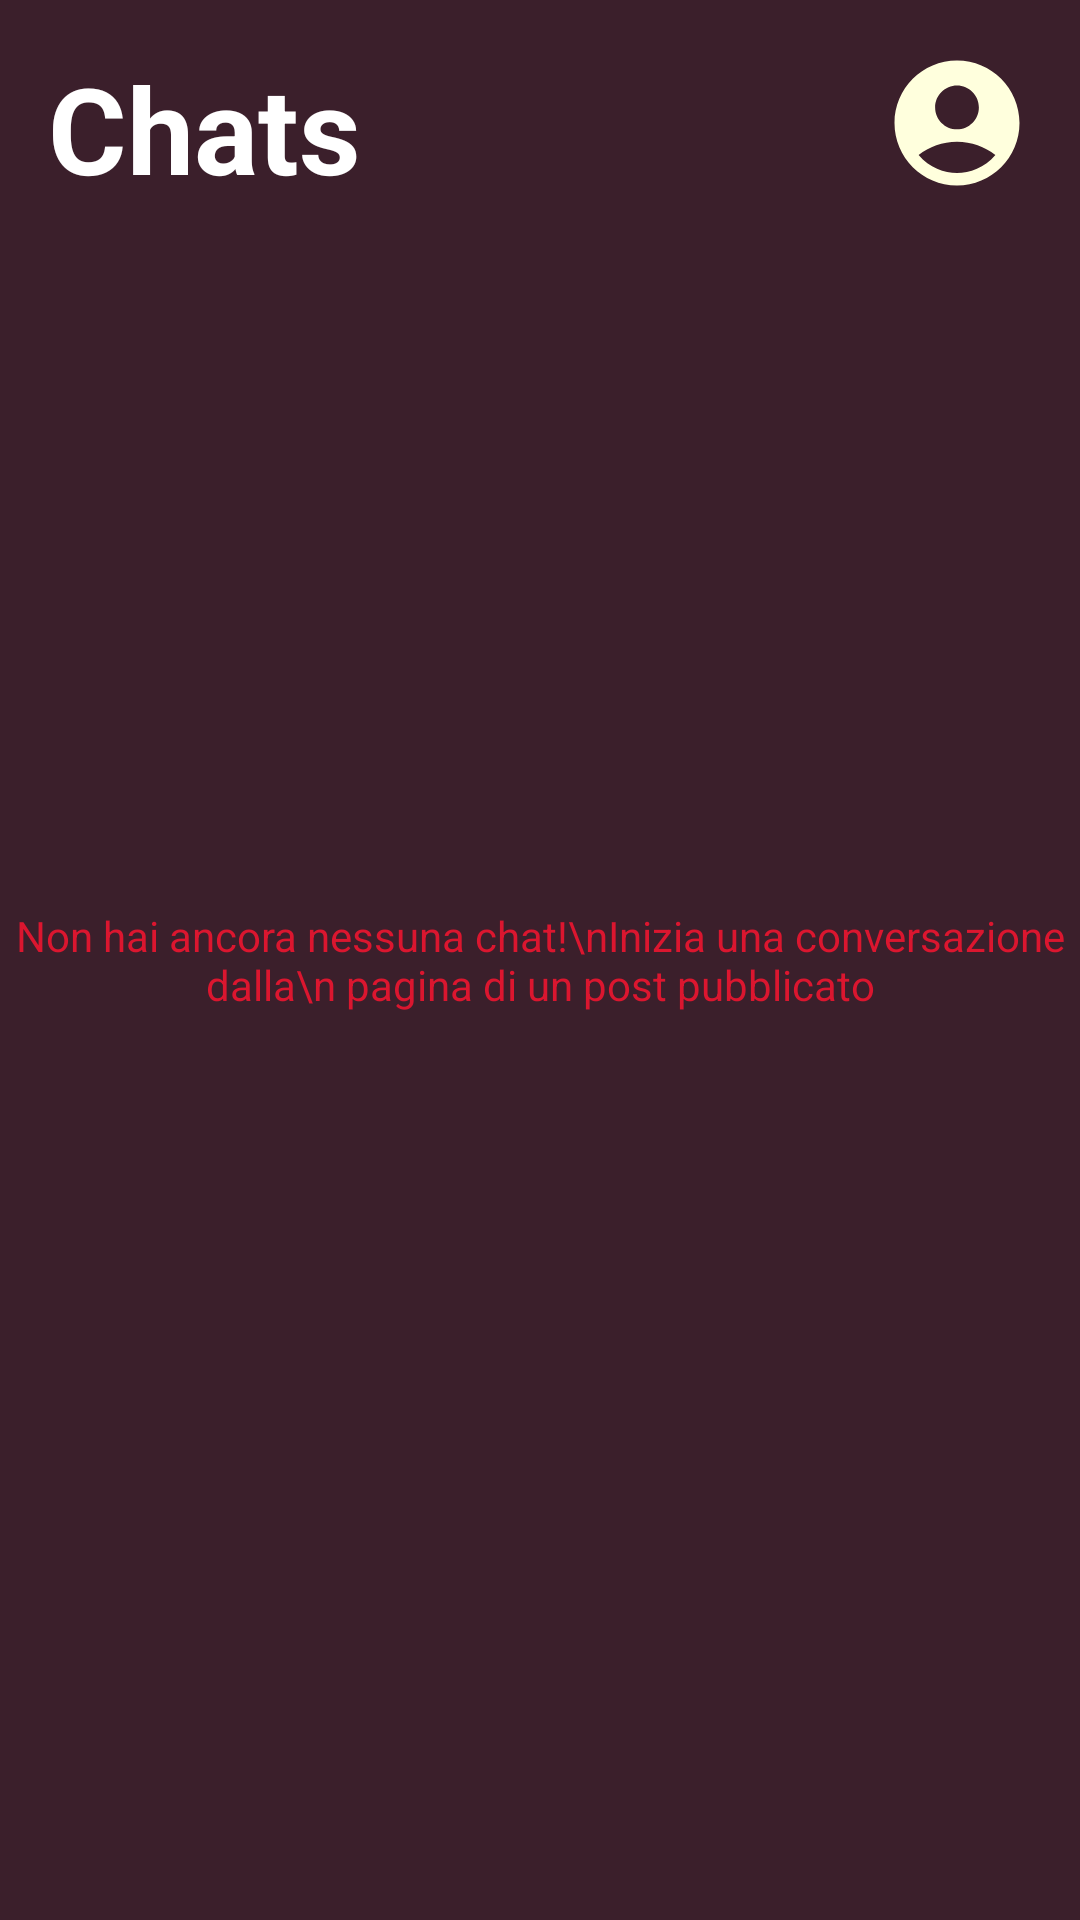

Where icons sit on this 1080w x 1920h app screen, as [x1=x1, y1=y1, x2=x2, y2=y2]:
account circle: [x1=894, y1=60, x2=1020, y2=186]
